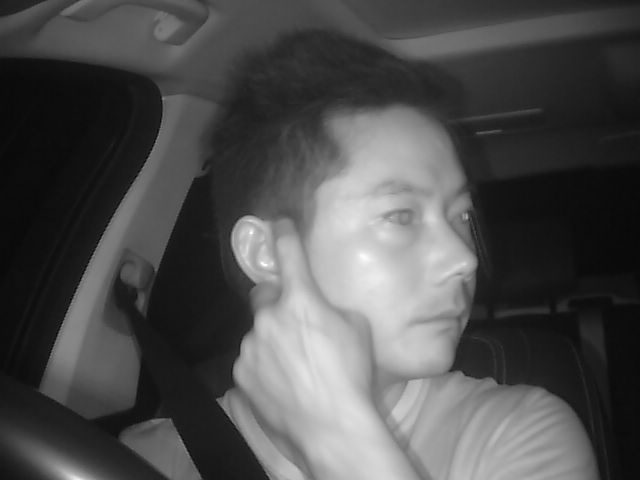hand: (232, 223, 371, 432)
